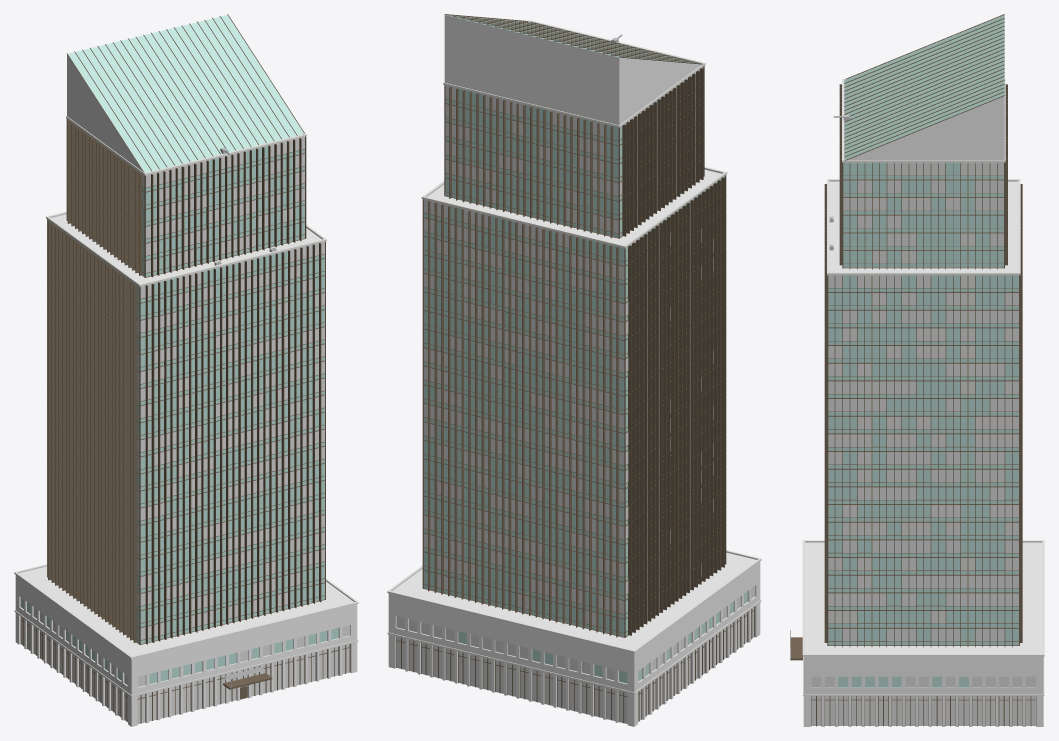
The model's file is tower_hero455.glb.
3 renders of one model, left to right at view 1: azimuth 30°, elevation 25°; view 2: azimuth 150°, elevation 25°; view 3: azimuth 270°, elevation 25°, orthographic. The views are drawn at different scales.
Visible parts, largest first — view 1: tower_hero455_Accent, tower_hero455_Glass, tower_hero455_WindowsLit, tower_hero455_Frames, tower_hero455_Walls2, tower_hero455_Roof, tower_hero455_Trim; view 2: tower_hero455_Accent, tower_hero455_Glass, tower_hero455_Walls2, tower_hero455_WindowsLit, tower_hero455_Frames, tower_hero455_Roof, tower_hero455_Trim; view 3: tower_hero455_Glass, tower_hero455_WindowsLit, tower_hero455_Frames, tower_hero455_Accent, tower_hero455_Walls2, tower_hero455_Roof, tower_hero455_Trim.
Boxes of the visible parts, box(x1,y1,x2,y2) form: tower_hero455_Accent: box(48, 121, 321, 689); tower_hero455_Glass: box(20, 15, 338, 684); tower_hero455_WindowsLit: box(21, 125, 350, 724); tower_hero455_Frames: box(20, 14, 350, 723); tower_hero455_Walls2: box(15, 54, 357, 726); tower_hero455_Roof: box(19, 214, 353, 656); tower_hero455_Trim: box(14, 116, 358, 696); tower_hero455_Accent: box(428, 68, 724, 637); tower_hero455_Glass: box(424, 15, 747, 683); tower_hero455_Walls2: box(388, 15, 760, 726); tower_hero455_WindowsLit: box(396, 67, 754, 723); tower_hero455_Frames: box(396, 14, 754, 723); tower_hero455_Roof: box(392, 169, 756, 650); tower_hero455_Trim: box(387, 20, 761, 694); tower_hero455_Glass: box(828, 15, 1018, 687); tower_hero455_WindowsLit: box(811, 162, 1035, 725); tower_hero455_Frames: box(811, 14, 1036, 726); tower_hero455_Accent: box(790, 84, 1022, 660); tower_hero455_Walls2: box(803, 96, 1043, 726); tower_hero455_Roof: box(805, 181, 1042, 654); tower_hero455_Trim: box(802, 79, 1044, 695).
Bounding box in the file's own units: 181 × 453 × 170.
